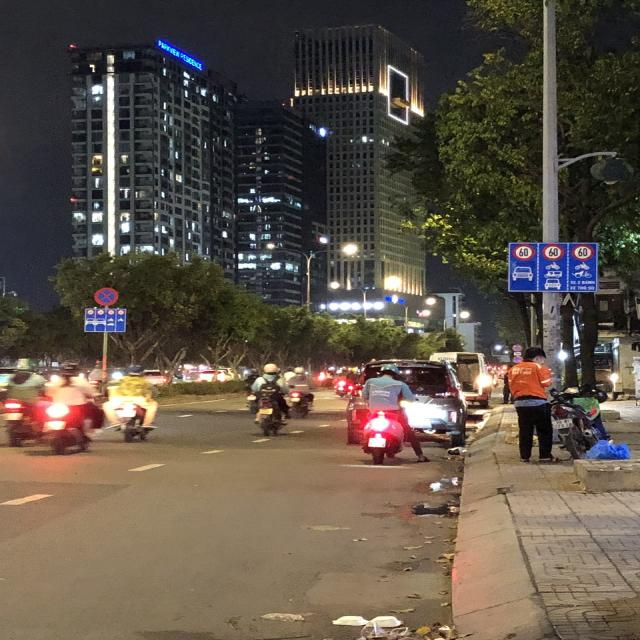Bien bao cam dung xe va do xe: (92, 286, 124, 307)
Bien bao toc do toi da cho phep: (570, 240, 593, 262), (510, 242, 535, 262), (542, 242, 565, 262)
